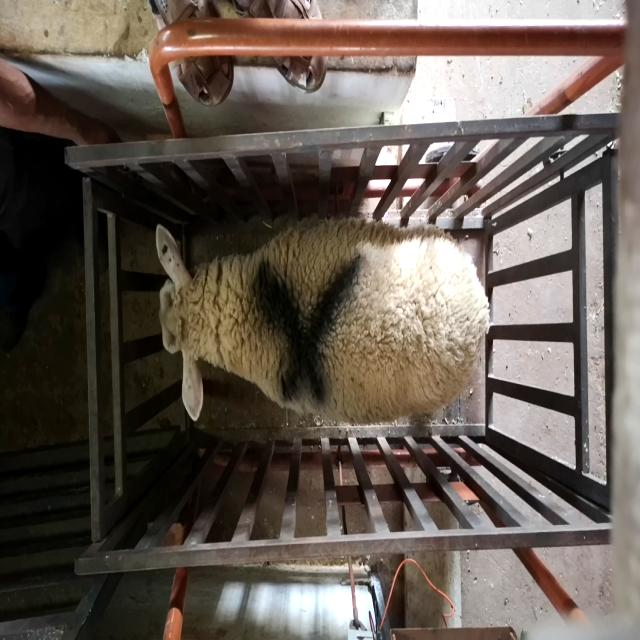sheep: (156, 219, 491, 424)
